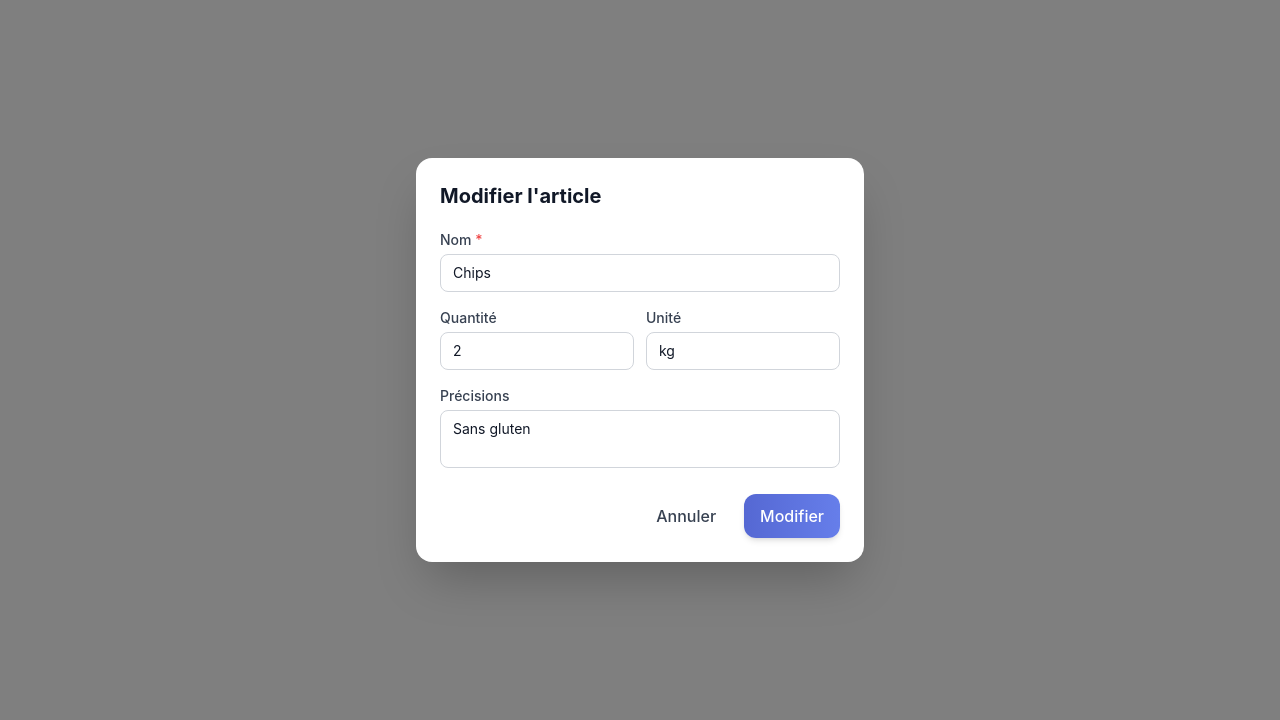
Test case: EditItemModal › shows an error message when the submission fails
The image size is (1280, 720).
Click the button "Modifier" at [792, 516], box left=744, top=494, right=840, bottom=538
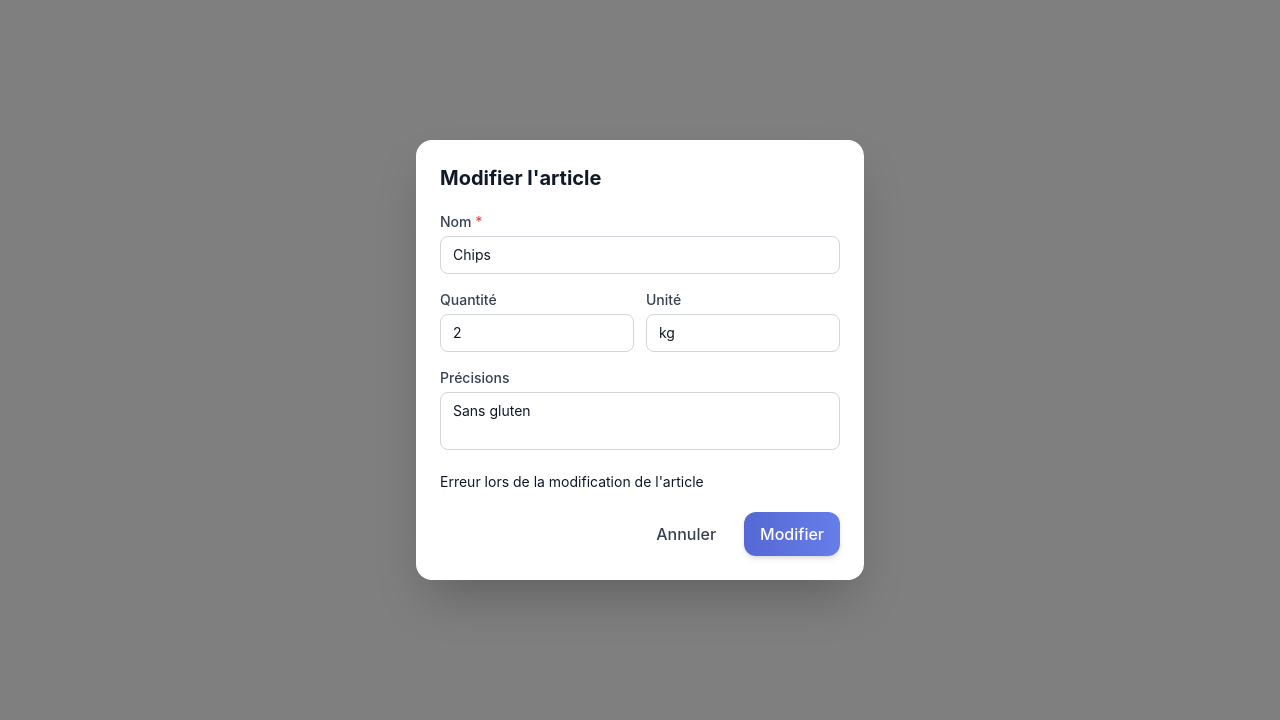
Expected: the text "Erreur lors de la modification de l'article" is shown, left=440, top=473, right=704, bottom=490
